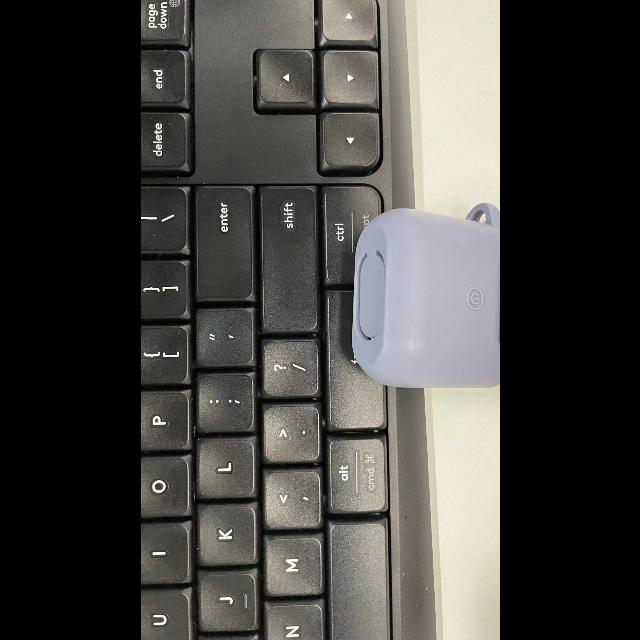airpods: (355, 206, 499, 388)
